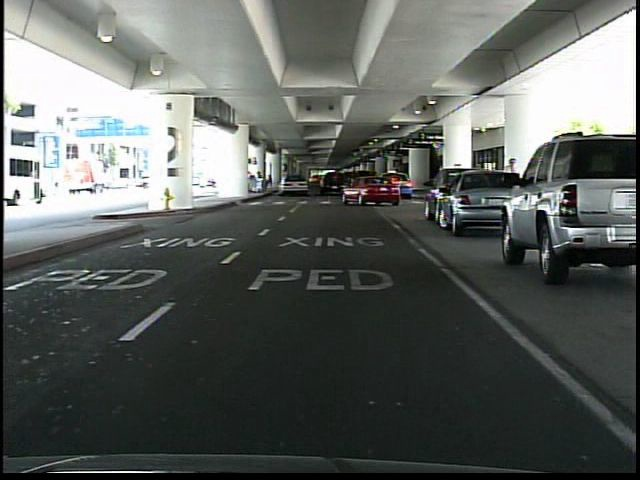person: (497, 151, 522, 225)
